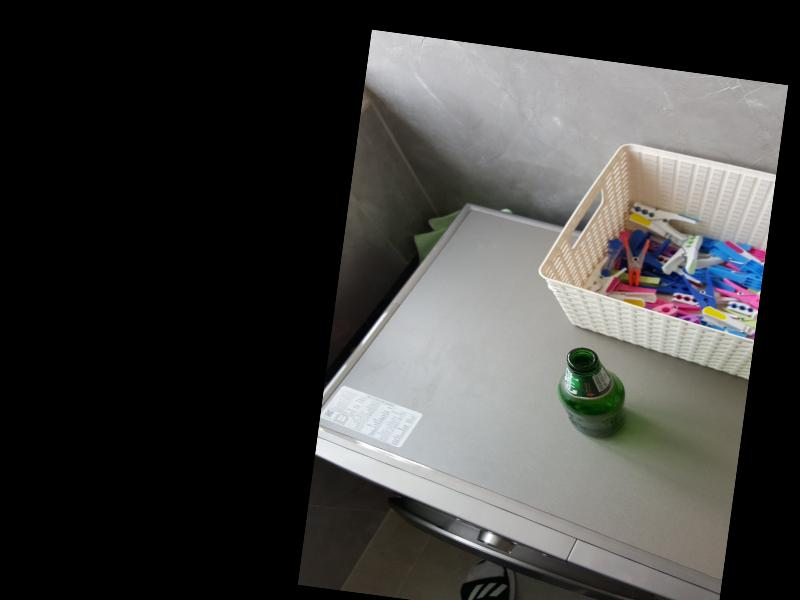Beer: (556, 346, 632, 442)
